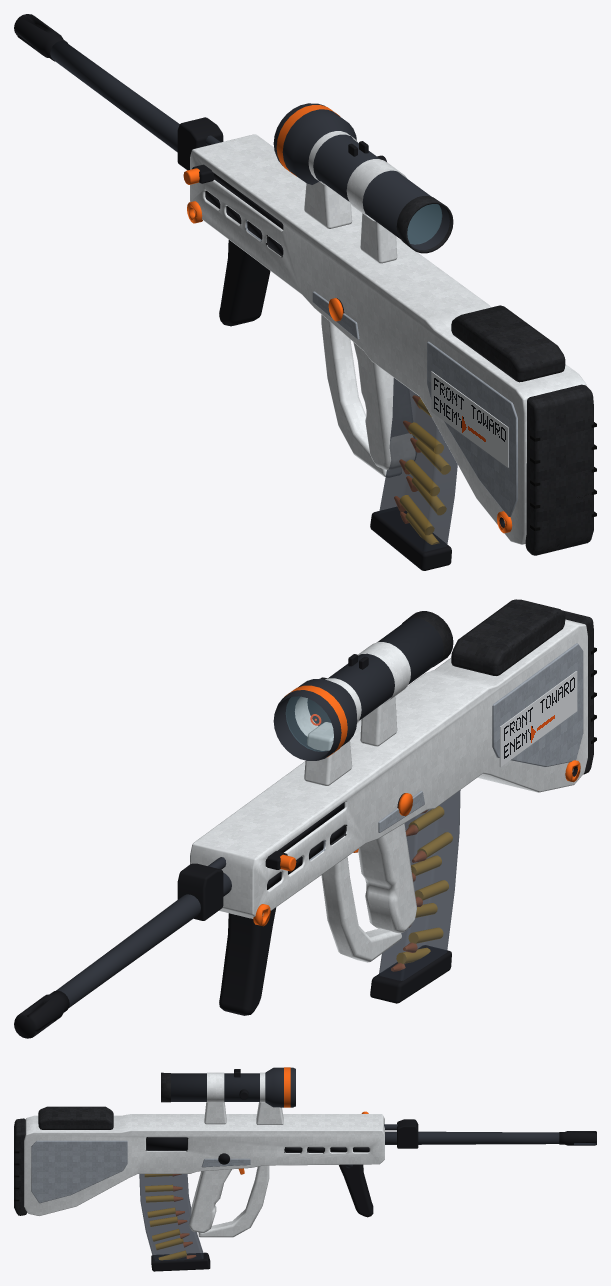
Rendered from w_ar_bullpup.glb.
3 renders of one model, top to bottom at view 1: azimuth 30°, elevation 25°; view 2: azimuth 150°, elevation 25°; view 3: azimuth 270°, elevation 25°, orthographic. The views are drawn at different scales.
Parts seen in each view (by area): view 1: bp_body_wzA, bp_body_wzB, bp_body_wzN; view 2: bp_body_wzA, bp_body_wzB, bp_body_wzN; view 3: bp_body_wzA, bp_body_wzB, bp_body_wzN.
Boxes of the visible parts, x1,y1,x2,y2 form: bp_body_wzA: (190,131,593,555); bp_body_wzB: (14,14,512,570); bp_body_wzN: (394,204,596,544); bp_body_wzA: (190,599,593,962); bp_body_wzB: (14,618,580,1038); bp_body_wzN: (286,647,596,971); bp_body_wzA: (14,1069,384,1237); bp_body_wzB: (139,1067,596,1271); bp_body_wzN: (14,1150,195,1260).
Size of the model in its own units: 0.1132 by 0.4555 by 1.21.
Materials: 13 (4 with a texture image).
